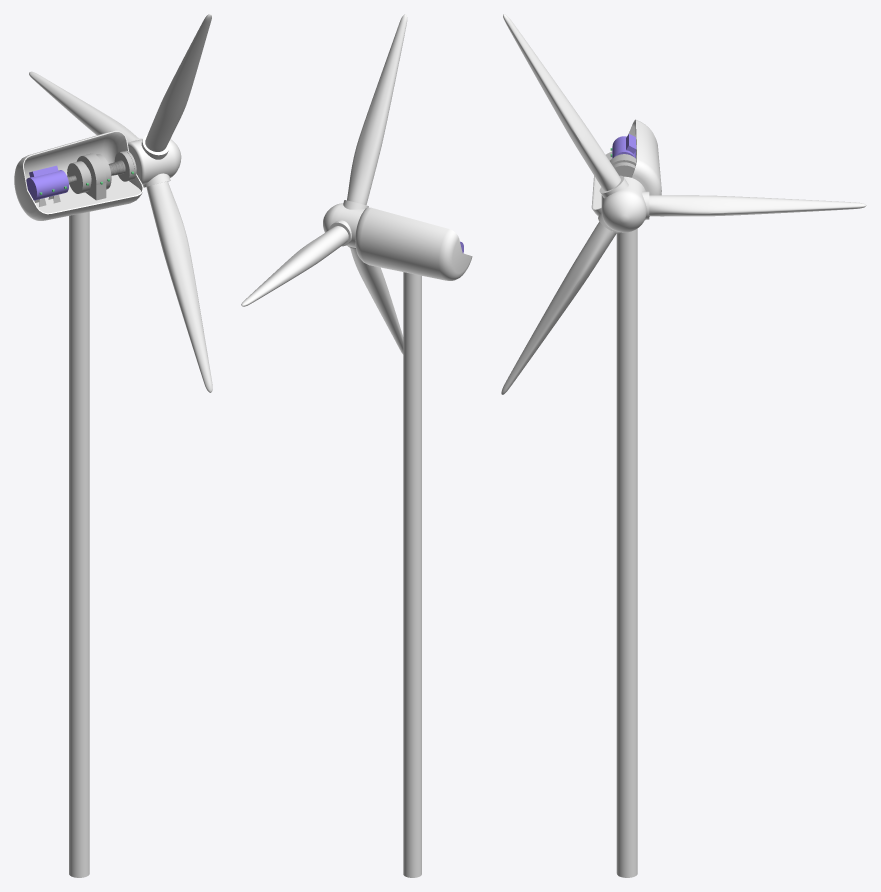
The model's file is machine.obj.
The picture shows the model from 3 angles, left to right: view 1: azimuth 30°, elevation 25°; view 2: azimuth 150°, elevation 25°; view 3: azimuth 270°, elevation 25°; orthographic projection. The views are drawn at different scales.
Visible parts, largest first — view 1: shell-3, shell-4.1, rotate-2-4_1, rotate-2-4_2, rotate-2-4, rotate-3, sensor_engine-4, sensor_gearbox-1, sensor_gearbox-4; view 2: shell-3, shell-4.1, rotate-2-4_2, rotate-2-4, rotate-2-4_1, rotate-3; view 3: shell-3, rotate-2-4, rotate-2-4_2, rotate-2-4_1, shell-4.1, rotate-3.
Part boxes in pixels (x1,y1,x2,y2): shell-3: (69, 212, 89, 877); shell-4.1: (14, 130, 143, 220); rotate-2-4_1: (146, 181, 212, 392); rotate-2-4_2: (145, 14, 211, 151); rotate-2-4: (29, 71, 138, 142); rotate-3: (128, 139, 181, 184); sensor_engine-4: (26, 170, 68, 200); sensor_gearbox-1: (67, 161, 91, 193); sensor_gearbox-4: (76, 153, 106, 195); shell-3: (403, 272, 421, 877); shell-4.1: (355, 207, 472, 280); rotate-2-4_2: (347, 14, 407, 204); rotate-2-4: (241, 226, 348, 306); rotate-2-4_1: (350, 248, 403, 354); rotate-3: (323, 203, 364, 247); shell-3: (616, 228, 637, 877); rotate-2-4: (649, 195, 866, 216); rotate-2-4_2: (503, 14, 620, 190); rotate-2-4_1: (501, 221, 616, 394); shell-4.1: (591, 119, 661, 219); rotate-3: (601, 176, 646, 232).
Size of the model in its own units: 104 by 579 by 214.
